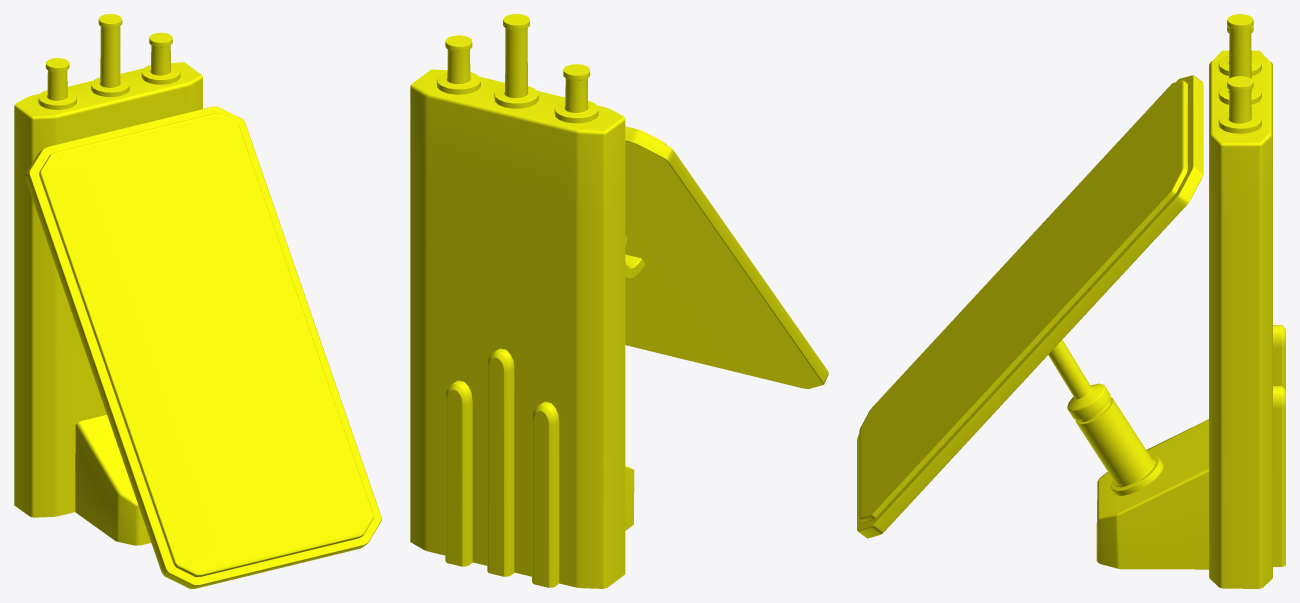
The model's file is solar_panel.glb.
3 views of the same model, side by side, from view 1: azimuth 30°, elevation 25°; view 2: azimuth 150°, elevation 25°; view 3: azimuth 270°, elevation 25° (orthographic). The views are drawn at different scales.
Parts seen in each view (by area): view 1: Solar_panel; view 2: Solar_panel; view 3: Solar_panel.
Part boxes in pixels (x1,y1,x2,y2): Solar_panel: (14,14,381,588); Solar_panel: (410,14,828,588); Solar_panel: (857,14,1285,588).
Bounding box in the file's own units: 1.98 × 4.15 × 3.08.
1 material, 1 textured.
